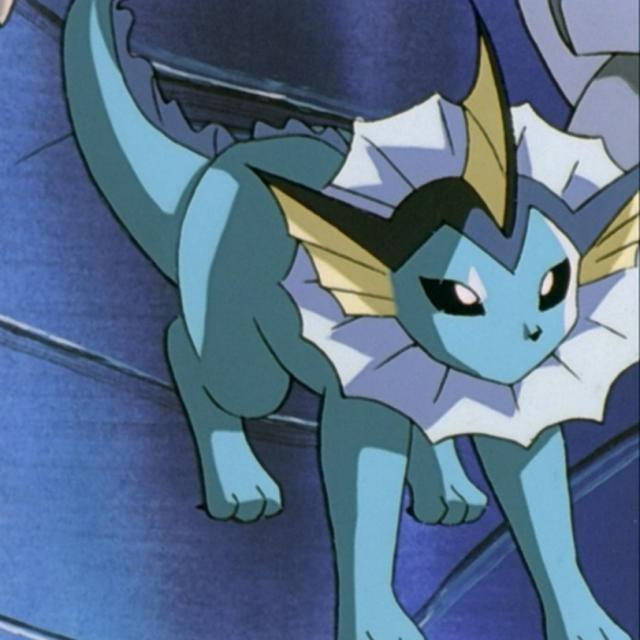Vaporeon: (150, 42, 640, 522)
